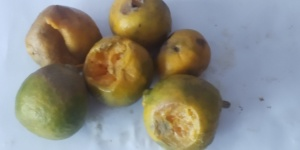BAD: (141, 75, 222, 150), (80, 34, 156, 112), (12, 63, 86, 138), (21, 6, 101, 71), (105, 1, 174, 52), (154, 31, 213, 81)
